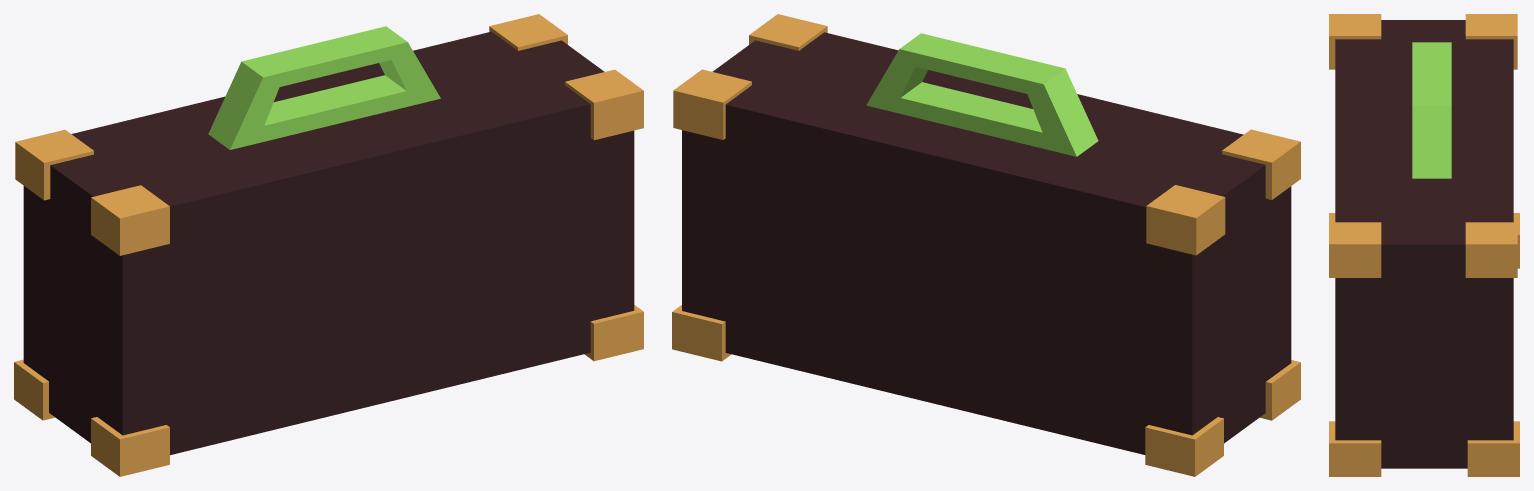
The model's file is modern-suitcase-panel-graphite.glb.
The picture shows the model from 3 angles, left to right: view 1: azimuth 30°, elevation 25°; view 2: azimuth 150°, elevation 25°; view 3: azimuth 270°, elevation 25°; orthographic projection. The views are drawn at different scales.
Parts seen in each view (by area): view 1: Proportion-adjusted source luggage; view 2: Proportion-adjusted source luggage; view 3: Proportion-adjusted source luggage.
Part boxes in pixels (x1,y1,x2,y2): Proportion-adjusted source luggage: [14, 14, 643, 476]; Proportion-adjusted source luggage: [672, 14, 1300, 476]; Proportion-adjusted source luggage: [1329, 14, 1519, 476].
Size of the model in its own units: 0.7403 by 0.4312 by 0.2592.
1 material, 1 textured.
